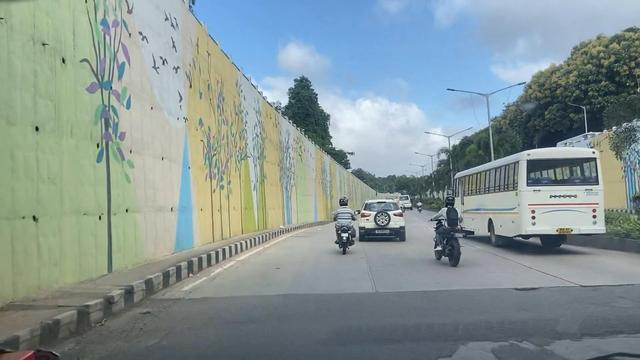HMV: (453, 151, 601, 251)
LMV: (434, 195, 464, 265), (360, 197, 407, 240), (337, 197, 355, 253)
RoadDamages: (417, 325, 640, 360), (507, 273, 541, 302)
